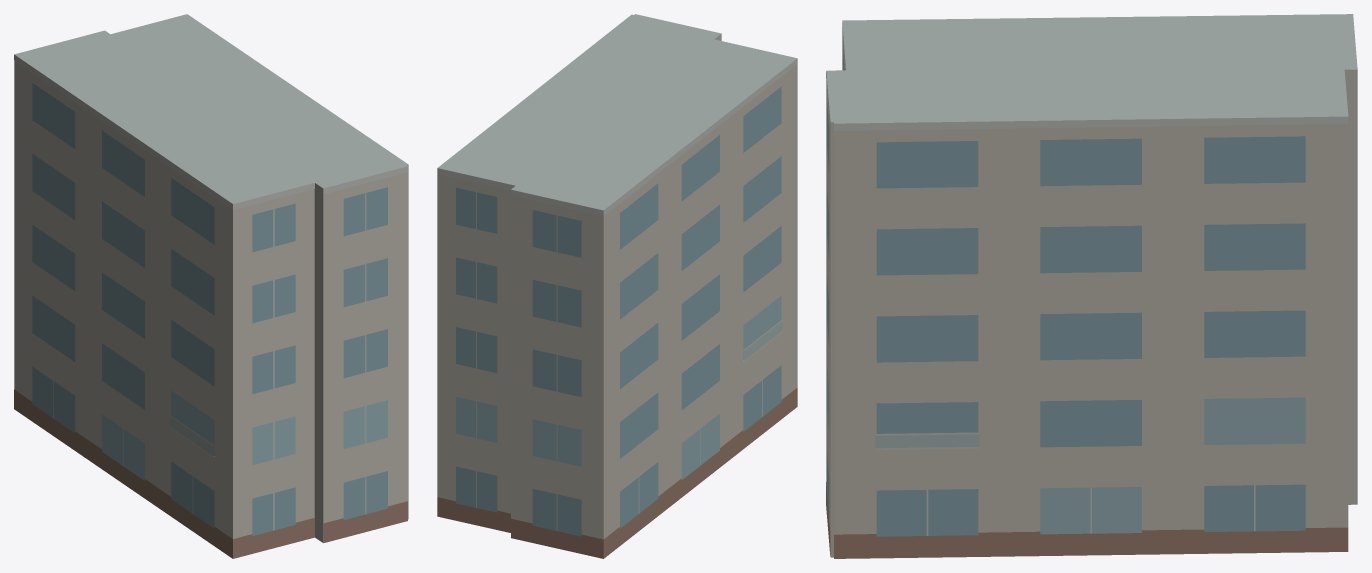
Rendered from survey-upis-32565088.glb.
3 views of the same model, side by side, from view 1: azimuth 30°, elevation 25°; view 2: azimuth 150°, elevation 25°; view 3: azimuth 270°, elevation 25° (orthographic). The views are drawn at different scales.
Visible parts, largest first — view 1: survey-upis-32565088.tmp; view 2: survey-upis-32565088.tmp; view 3: survey-upis-32565088.tmp.
Part boxes in pixels (x1,y1,x2,y2): survey-upis-32565088.tmp: (14, 14, 408, 558); survey-upis-32565088.tmp: (437, 14, 797, 558); survey-upis-32565088.tmp: (826, 14, 1357, 558).
Size of the model in its own units: 7.81 by 14.45 by 16.
